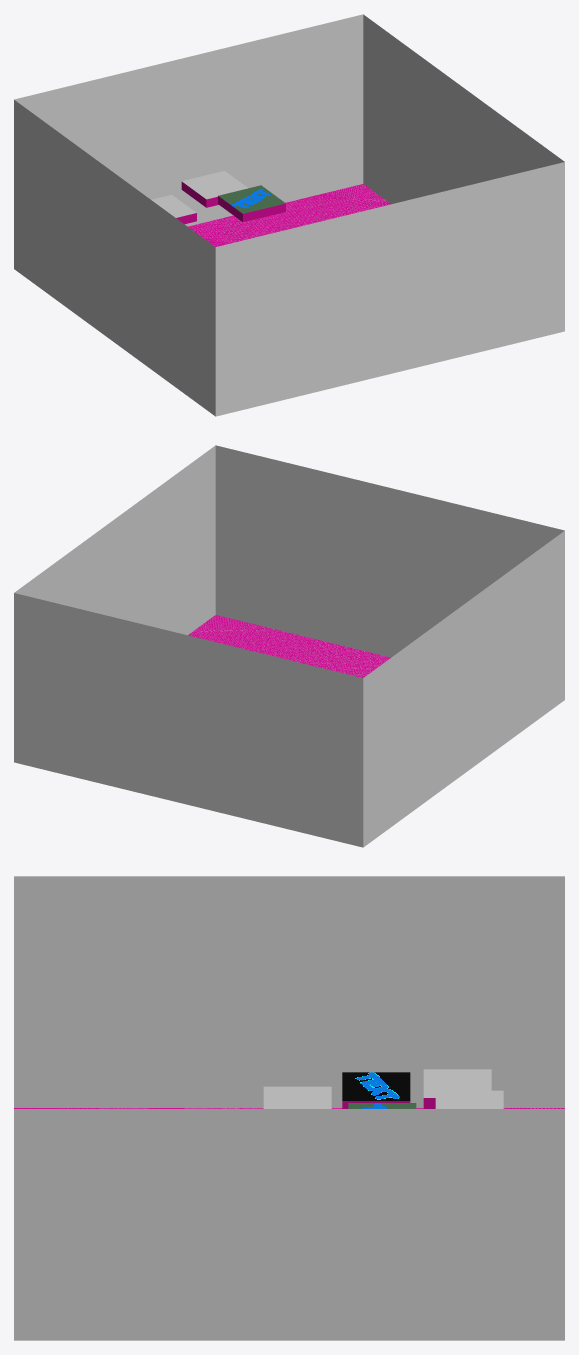
File: multi-4bpp.fbx
The picture shows the model from 3 angles, top to bottom: view 1: azimuth 30°, elevation 25°; view 2: azimuth 150°, elevation 25°; view 3: azimuth 270°, elevation 25°; orthographic projection. The views are drawn at different scales.
Parts seen in each view (by area): view 1: Plane, Cube.002, Cube.009, Cube.008; view 2: Plane; view 3: Plane, Cube.006, Cube.007, Cube.005, Cube.008.
Part boxes in pixels (box(x1,y1,x2,y2)): Plane: box(14, 14, 564, 416); Cube.002: box(218, 185, 285, 222); Cube.009: box(181, 171, 247, 207); Cube.008: box(151, 195, 196, 224); Plane: box(14, 445, 564, 847); Plane: box(14, 876, 564, 1340); Cube.006: box(342, 1072, 410, 1108); Cube.007: box(423, 1069, 491, 1108); Cube.005: box(263, 1086, 331, 1108); Cube.008: box(435, 1090, 503, 1108).
Bounding box in the file's own units: 3027 × 1403 × 3027.
